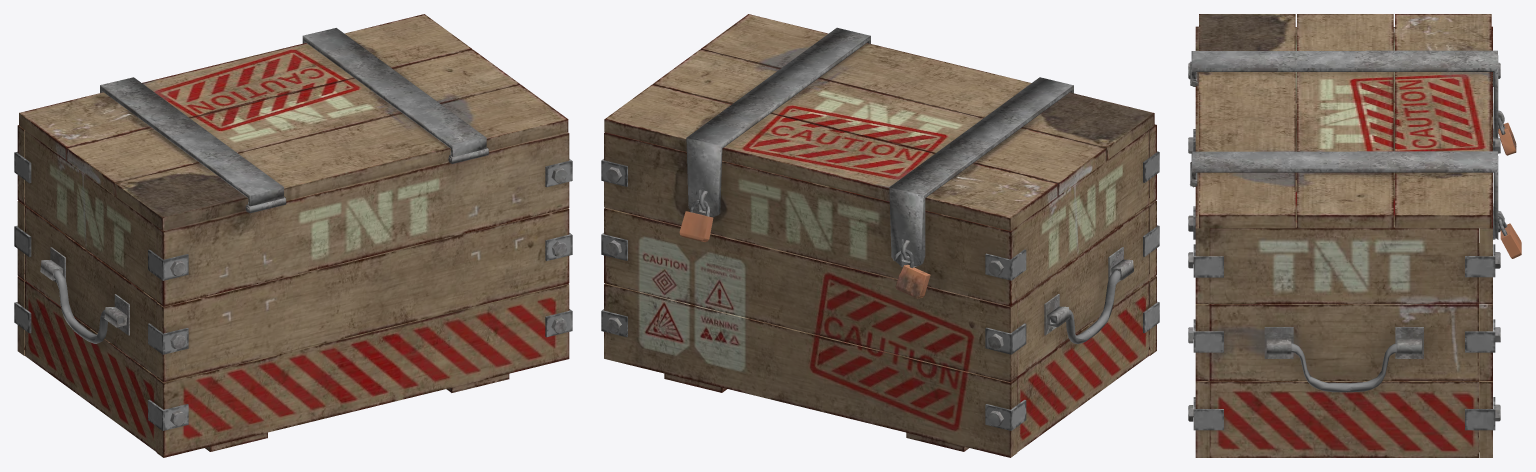
The model's file is tnt-crate.glb.
3 views of the same model, side by side, from view 1: azimuth 30°, elevation 25°; view 2: azimuth 150°, elevation 25°; view 3: azimuth 270°, elevation 25° (orthographic).
Parts seen in each view (by area): view 1: cerniere_0; view 2: cerniere_0; view 3: cerniere_0.
Part boxes in pixels (box(x1,y1,x2,y2)): cerniere_0: box(14, 14, 572, 457); cerniere_0: box(601, 14, 1159, 457); cerniere_0: box(1188, 14, 1521, 457).
Bounding box in the file's own units: 0.9427 × 0.5228 × 0.6203.
6 materials, 6 textured.
